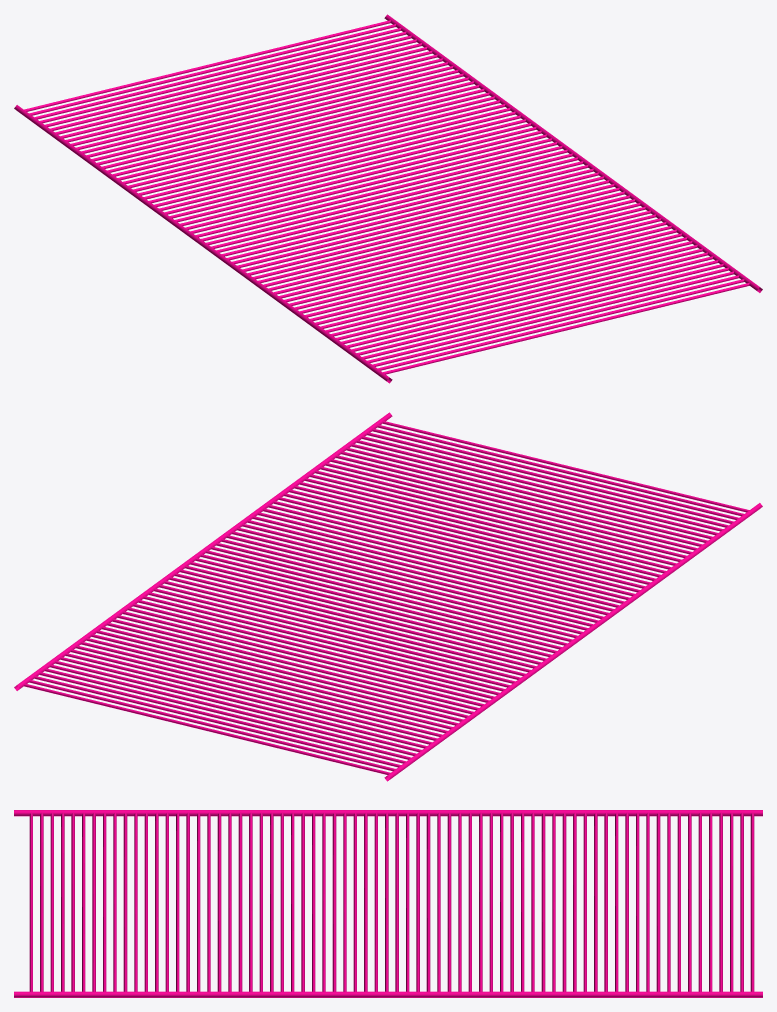
The model's file is échelle_sup_public_accessible_tri.obj.
3 renders of one model, top to bottom at view 1: azimuth 30°, elevation 25°; view 2: azimuth 150°, elevation 25°; view 3: azimuth 270°, elevation 25°, orthographic.
Parts seen in each view (by area): view 1: échelle_sup_public_accessible_tri_0; view 2: échelle_sup_public_accessible_tri_0; view 3: échelle_sup_public_accessible_tri_0.
Boxes of the visible parts, <box> form: échelle_sup_public_accessible_tri_0: <box>14,14,762,383</box>; échelle_sup_public_accessible_tri_0: <box>14,412,762,781</box>; échelle_sup_public_accessible_tri_0: <box>14,810,762,997</box>.
Bounding box in the file's own units: 6.27 × 0.1 × 10.75.
